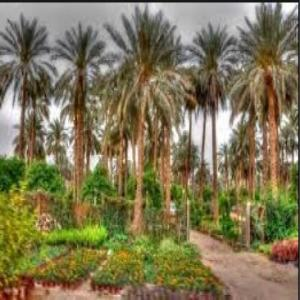palm tree: (102, 2, 186, 234), (233, 1, 298, 199), (50, 20, 106, 215), (186, 20, 239, 225), (0, 11, 57, 161)
